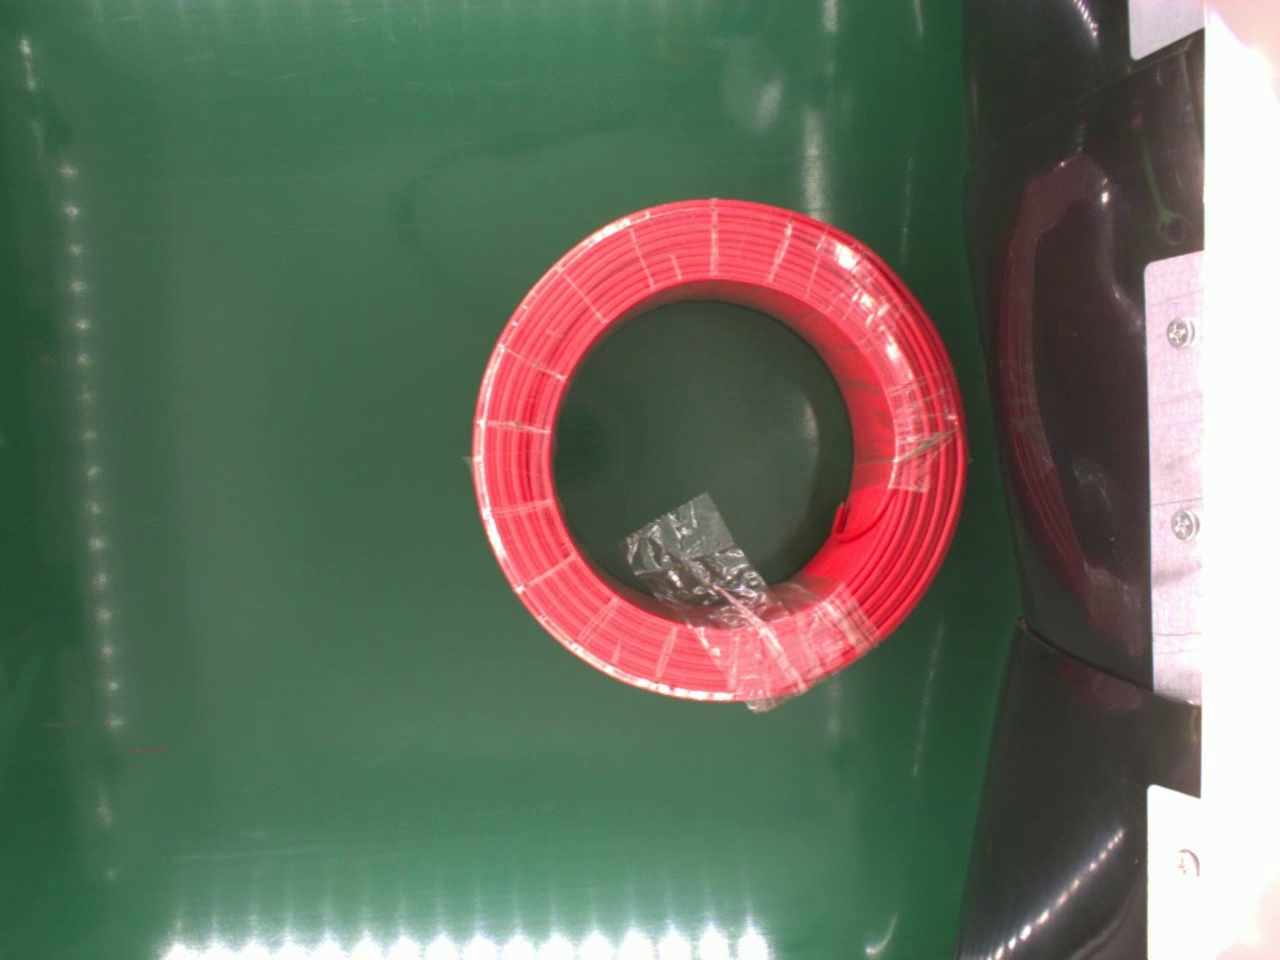red: (472, 199, 969, 709)
